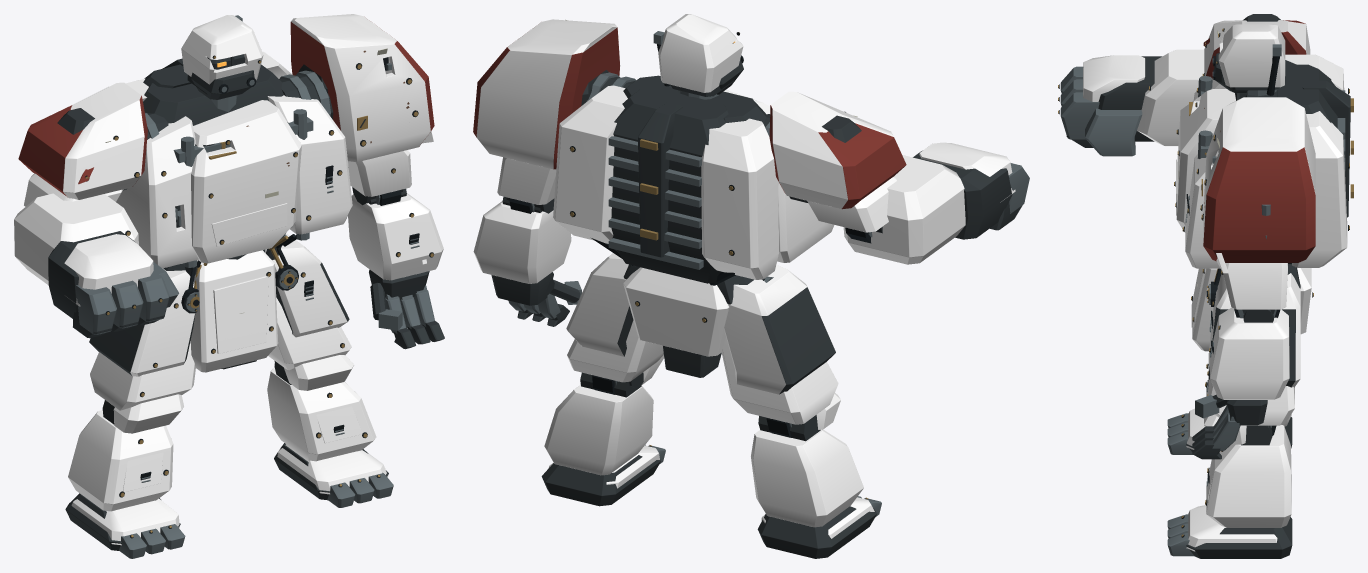
File: mechanical-citizens-red-shoulder-juggernaut-v1.glb
The picture shows the model from 3 angles, left to right: view 1: azimuth 30°, elevation 25°; view 2: azimuth 150°, elevation 25°; view 3: azimuth 270°, elevation 25°; orthographic projection. The views are drawn at different scales.
Parts seen in each view (by area): view 1: PLATE_chest_center_slab, PLATE_pauldron_large.L, PLATE_pauldron_raked.R, PLATE_waist_center_apron, CORE_chest, PLATE_shin_main_guard.R, PLATE_chest_flank.R, PLATE_shin_main_guard.L, CORE_hand.R, PLATE_chest_flank.L, PLATE_forearm_slab.L, PLATE_forearm_impact_cuff.R (+18 smaller); view 2: CORE_chest, PLATE_pauldron_large.L, PLATE_rear_cassette.R, PLATE_pauldron_raked.R, PLATE_hip_skirt.R, PLATE_shin_main_guard.R, PLATE_rear_cassette.L, PLATE_forearm_impact_cuff.R, PLATE_shin_main_guard.L, PLATE_pelvis_rear_guard, PLATE_forearm_slab.L, PLATE_helmet_cowl (+18 smaller); view 3: PLATE_pauldron_large.L, PLATE_shin_main_guard.L, PLATE_forearm_slab.L, CORE_hand.R, PLATE_rear_cassette.L, PLATE_forearm_impact_cuff.R, PLATE_helmet_cowl, PLATE_chest_center_slab, CORE_foot.L, CORE_hand.L, PLATE_upper_arm_guard.L, CORE_chest (+16 smaller).
Boxes of the visible parts, bbox=[...] form: PLATE_chest_center_slab: bbox=[180, 100, 301, 263]; PLATE_pauldron_large.L: bbox=[290, 14, 434, 162]; PLATE_pauldron_raked.R: bbox=[18, 82, 147, 199]; PLATE_waist_center_apron: bbox=[190, 250, 278, 372]; CORE_chest: bbox=[143, 64, 333, 275]; PLATE_shin_main_guard.R: bbox=[68, 410, 173, 511]; PLATE_chest_flank.R: bbox=[116, 116, 198, 268]; PLATE_shin_main_guard.L: bbox=[267, 368, 376, 461]; CORE_hand.R: bbox=[48, 231, 178, 338]; PLATE_chest_flank.L: bbox=[267, 95, 352, 234]; PLATE_forearm_slab.L: bbox=[348, 193, 443, 280]; PLATE_forearm_impact_cuff.R: bbox=[14, 193, 138, 284]; CORE_chest: bbox=[586, 72, 770, 285]; PLATE_pauldron_large.L: bbox=[473, 19, 620, 169]; PLATE_rear_cassette.R: bbox=[701, 118, 779, 279]; PLATE_pauldron_raked.R: bbox=[769, 91, 906, 209]; PLATE_hip_skirt.R: bbox=[724, 265, 835, 394]; PLATE_shin_main_guard.R: bbox=[751, 429, 863, 527]; PLATE_rear_cassette.L: bbox=[553, 85, 627, 243]; PLATE_forearm_impact_cuff.R: bbox=[843, 155, 965, 264]; PLATE_shin_main_guard.L: bbox=[544, 385, 653, 475]; PLATE_pelvis_rear_guard: bbox=[623, 267, 729, 356]; PLATE_forearm_slab.L: bbox=[473, 201, 571, 283]; PLATE_helmet_cowl: bbox=[658, 14, 743, 92]; PLATE_pauldron_large.L: bbox=[1200, 97, 1315, 273]; PLATE_shin_main_guard.L: bbox=[1205, 425, 1291, 527]; PLATE_forearm_slab.L: bbox=[1207, 307, 1289, 399]; CORE_hand.R: bbox=[1058, 56, 1161, 156]; PLATE_rear_cassette.L: bbox=[1292, 111, 1349, 267]; PLATE_forearm_impact_cuff.R: bbox=[1137, 49, 1204, 146]; PLATE_helmet_cowl: bbox=[1216, 24, 1285, 87]; PLATE_chest_center_slab: bbox=[1174, 89, 1235, 232]; CORE_foot.L: bbox=[1167, 514, 1292, 558]; CORE_hand.L: bbox=[1192, 394, 1267, 459]; PLATE_upper_arm_guard.L: bbox=[1221, 263, 1287, 309]; CORE_chest: bbox=[1197, 60, 1345, 263].
Size of the model in its own units: 3.56 by 3.77 by 2.15.
